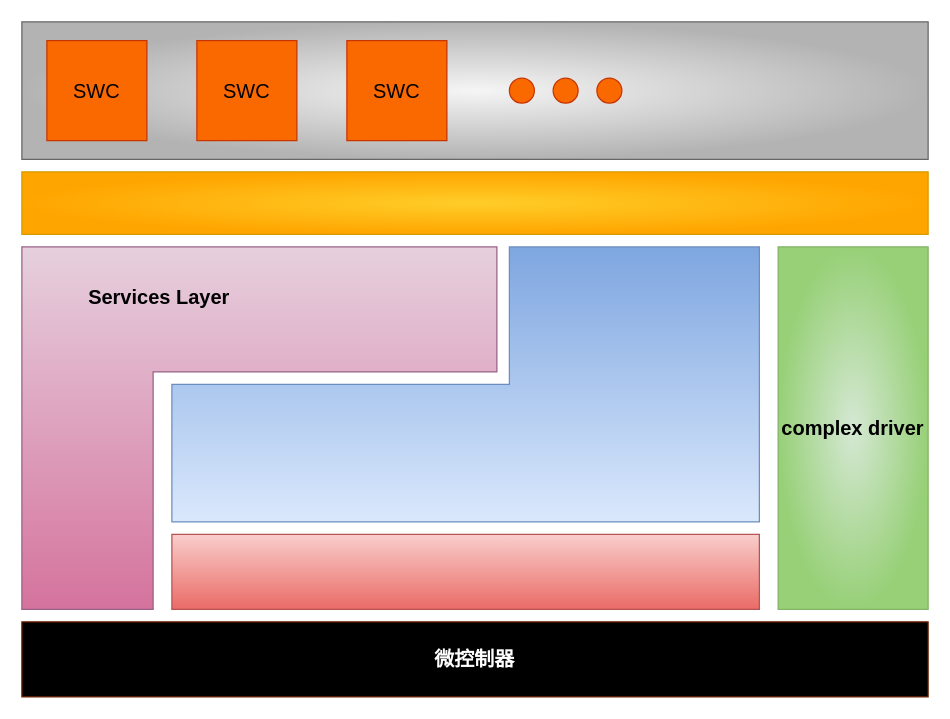
This 950x719 diagram has some shape labels left out. Each missing label, with the box of its shape:
ECU Abstraction Layer: (171, 246, 759, 522)
MCAL: (171, 533, 759, 609)
Runtime Enviroment: (21, 171, 928, 234)
